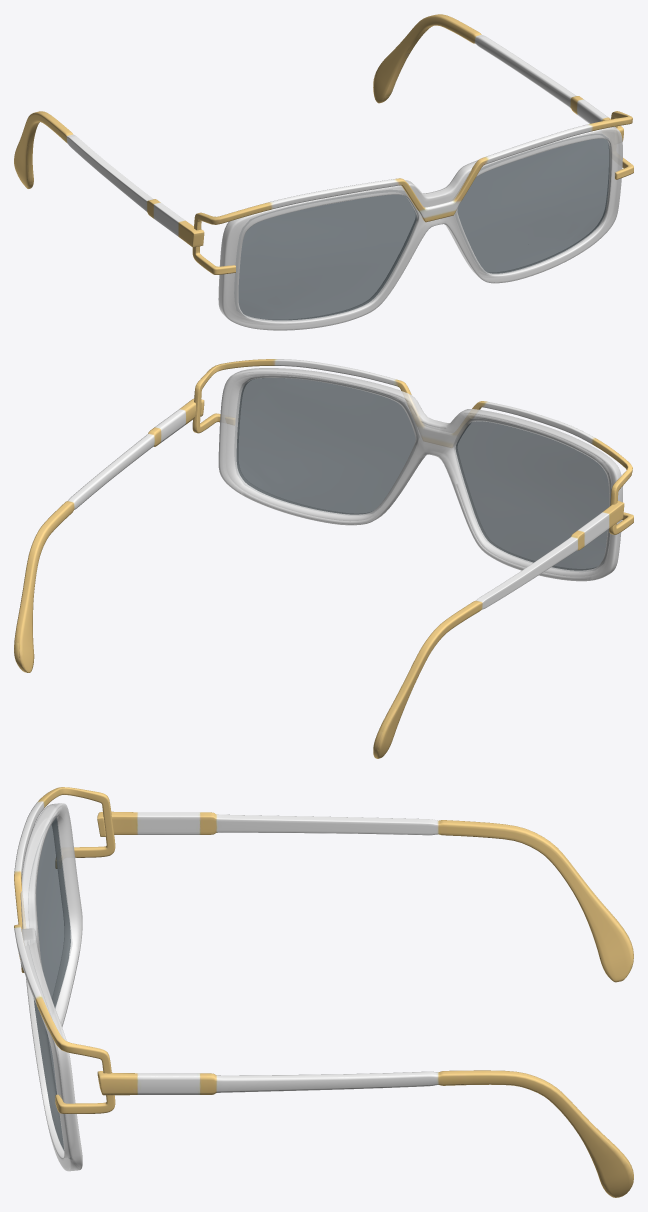
Rendered from cazal_fixed_origin.glb.
The picture shows the model from 3 angles, top to bottom: view 1: azimuth 30°, elevation 25°; view 2: azimuth 150°, elevation 25°; view 3: azimuth 270°, elevation 25°; orthographic projection. The views are drawn at different scales.
Visible parts, largest first — view 1: defaultMaterial; view 2: defaultMaterial; view 3: defaultMaterial.
Boxes of the visible parts, x1,y1,x2,y2 form: defaultMaterial: (14, 14, 633, 330); defaultMaterial: (14, 359, 633, 758); defaultMaterial: (14, 787, 633, 1197).
Bounding box in the file's own units: 0.2283 × 0.0776 × 0.2257.
Materials: 4 (4 with a texture image).
